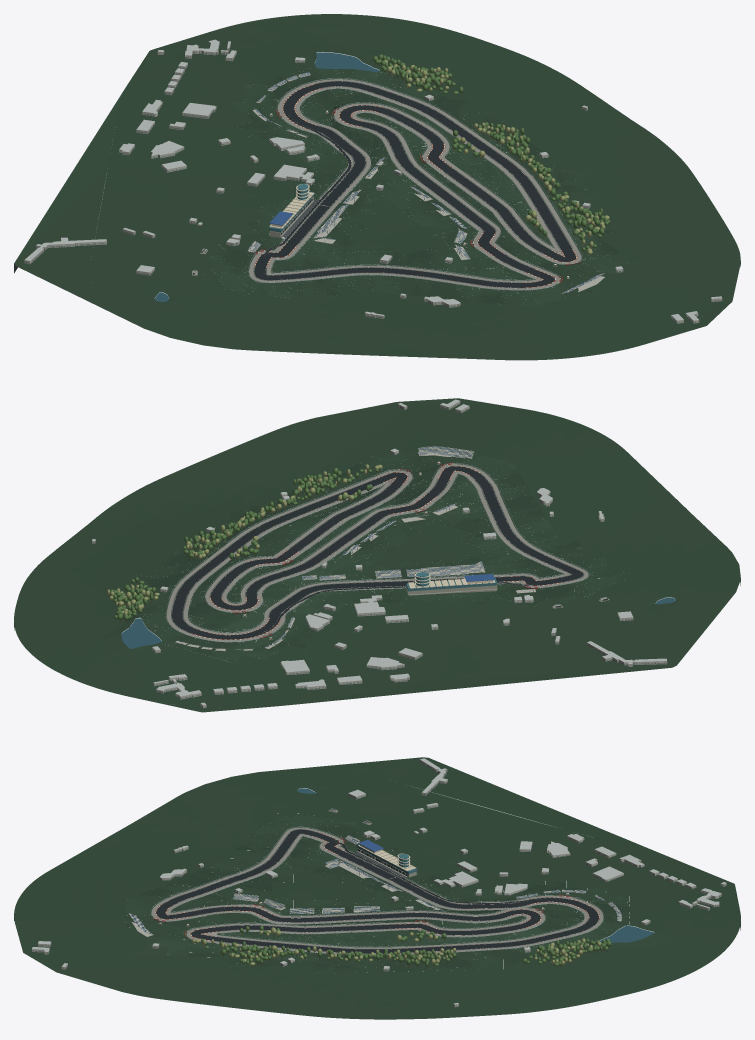
The model's file is MagnyCours.glb.
3 renders of one model, top to bottom at view 1: azimuth 30°, elevation 25°; view 2: azimuth 150°, elevation 25°; view 3: azimuth 270°, elevation 25°, orthographic. The views are drawn at different scales.
Parts seen in each view (by area): view 1: terrain/ground, road/asphalt, terrain-ground-finish-1, terrain-ground-finish-3, terrain-ground-finish-2, runoff/gravel, terrain-extension/land, terrain-ground-finish-4, terrain-ground-finish-0, scenery/leaves, shoulder/runoff, barriers/steel (+3 smaller); view 2: terrain/ground, road/asphalt, terrain-ground-finish-3, terrain-ground-finish-1, terrain-ground-finish-2, terrain-extension/land, runoff/gravel, terrain-ground-finish-4, terrain-ground-finish-0, scenery/leaves, shoulder/runoff, barriers/steel (+5 smaller); view 3: terrain/ground, road/asphalt, terrain-ground-finish-1, terrain-ground-finish-3, terrain-ground-finish-2, runoff/gravel, terrain-extension/land, terrain-ground-finish-0, terrain-ground-finish-4, scenery/leaves, shoulder/runoff, barriers/steel (+3 smaller).
Part boxes in pixels (<box>): terrain/ground: <box>90,14,740,360</box>; road/asphalt: <box>254,81,576,287</box>; terrain-ground-finish-1: <box>211,69,616,302</box>; terrain-ground-finish-3: <box>205,64,631,306</box>; terrain-ground-finish-2: <box>199,67,609,305</box>; runoff/gravel: <box>249,79,581,289</box>; terrain-extension/land: <box>14,34,740,342</box>; terrain-ground-finish-4: <box>208,63,627,306</box>; terrain-ground-finish-0: <box>221,76,620,304</box>; scenery/leaves: <box>372,54,610,251</box>; shoulder/runoff: <box>253,81,577,288</box>; barriers/steel: <box>248,78,582,290</box>; terrain/ground: <box>14,404,740,707</box>; road/asphalt: <box>171,466,583,639</box>; terrain-ground-finish-3: <box>141,454,624,661</box>; terrain-ground-finish-1: <box>132,451,623,655</box>; terrain-ground-finish-2: <box>138,451,632,663</box>; terrain-extension/land: <box>143,398,733,712</box>; runoff/gravel: <box>166,464,588,641</box>; terrain-ground-finish-4: <box>142,450,619,661</box>; terrain-ground-finish-0: <box>131,450,579,652</box>; scenery/leaves: <box>110,468,378,620</box>; shoulder/runoff: <box>171,466,584,639</box>; barriers/steel: <box>165,463,589,642</box>; terrain/ground: <box>14,769,740,1019</box>; road/asphalt: <box>156,829,598,953</box>; terrain-ground-finish-1: <box>125,813,629,973</box>; terrain-ground-finish-3: <box>125,813,634,973</box>; terrain-ground-finish-2: <box>125,813,630,972</box>; runoff/gravel: <box>151,827,603,954</box>; terrain-extension/land: <box>16,757,739,988</box>; terrain-ground-finish-0: <box>125,826,629,971</box>; terrain-ground-finish-4: <box>125,815,635,960</box>; scenery/leaves: <box>201,926,611,966</box>; shoulder/runoff: <box>155,829,599,953</box>; barriers/steel: <box>150,826,604,955</box>.
Size of the model in its own units: 1462 by 68.48 by 1731.
